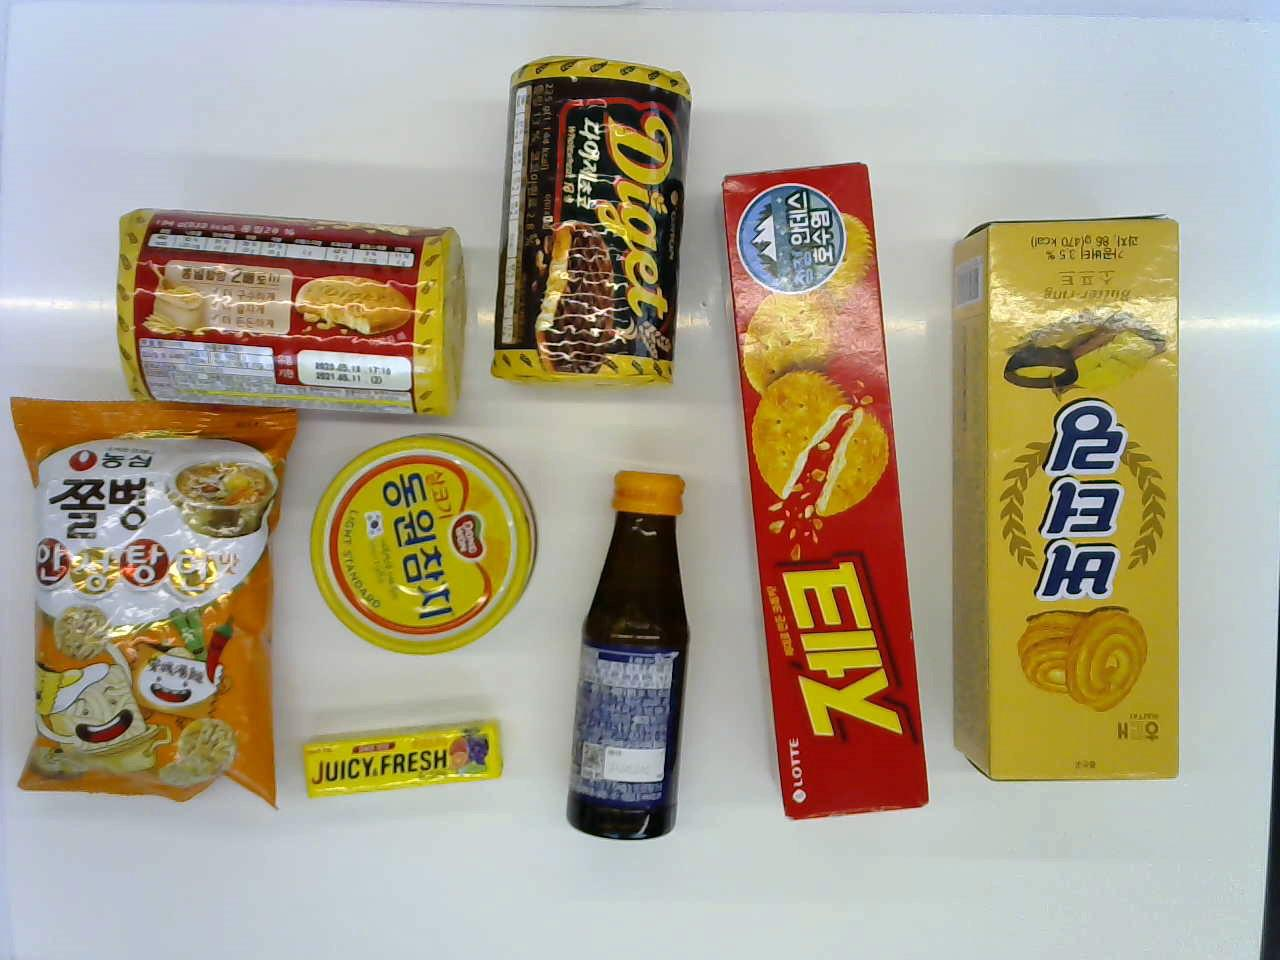diget_choco: (499, 55, 700, 388)
diget_ori: (96, 199, 472, 413)
jjolbyung_noodle: (13, 392, 281, 822)
juicyfresh: (295, 705, 517, 801)
tuna: (311, 426, 532, 658)
vita500: (952, 212, 1199, 781), (572, 467, 699, 846)
zec: (725, 155, 932, 832)
